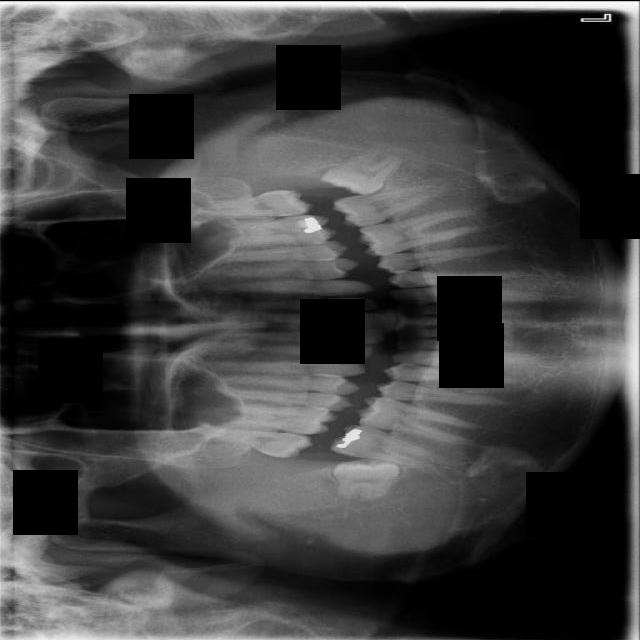52: (328, 417, 399, 464), (277, 213, 338, 244)
73: (565, 36, 584, 45)
BioHorizons Implant: (181, 189, 315, 217)
Biomet 3i Implant: (317, 137, 409, 212)
Blue Sky Bio Implant: (331, 178, 454, 232)
Caries: (206, 426, 315, 460)
Implant: (329, 418, 455, 474)
Keystone Dental Implant: (332, 457, 403, 502)
